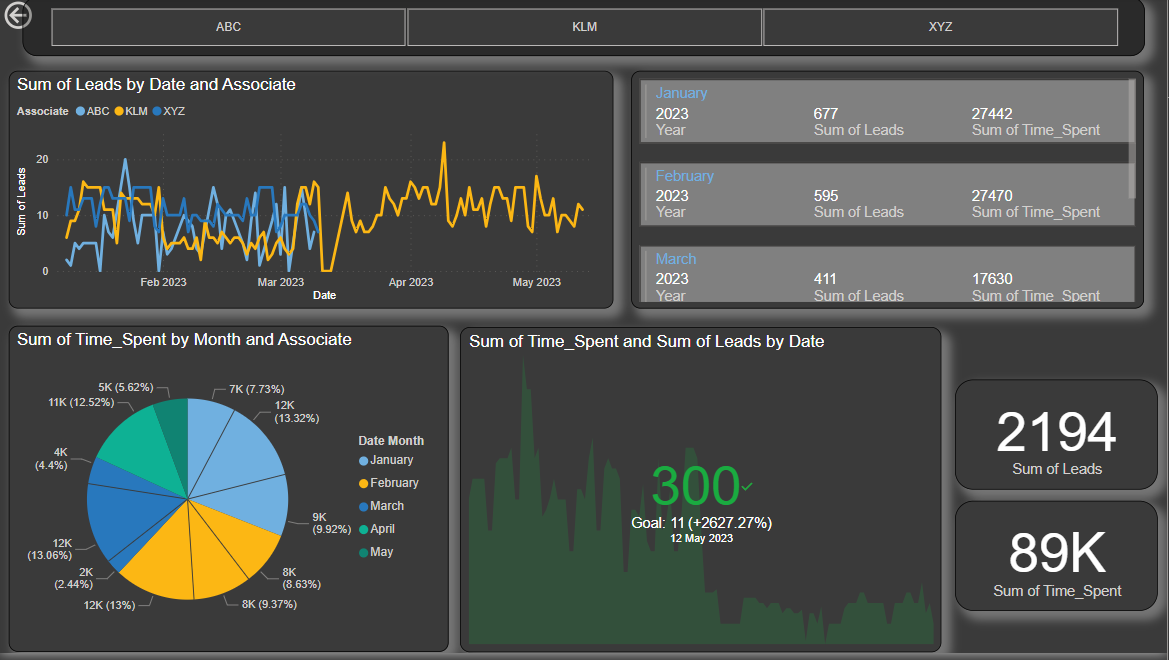

Layout of this report page (visuals, bound fields, positions):
{"tool":"powerbi","page":{"name":"Page 1","canvas":[1280,720],"ordinal":0},"visuals":[{"type":"lineChart","fields":{"Category":["Sheet1.Date"],"Series":["Sheet1.Associate"],"Y":["Sum(Sheet1.Leads)"]},"box":[9.6,80.9,663.6,260.5],"z":0},{"type":"pieChart","fields":{"Category":["Sheet1.Date.Variation.Date Hierarchy.Month"],"Y":["Sum(Sheet1.Time_Spent)"],"Series":["Sheet1.Associate"]},"box":[9.6,360.6,482.6,357.8],"z":1000},{"type":"kpi","fields":{"Indicator":["Sum(Sheet1.Time_Spent)"],"TrendLine":["Sheet1.Date"],"Goal":["Sum(Sheet1.Leads)"]},"box":[504.5,362,527.9,356.5],"z":2000},{"type":"card","fields":{"Values":["Sum(Sheet1.Leads)"]},"box":[1047.5,419.5,222.1,120.7],"z":3000},{"type":"actionButton","box":[0,0,100,40],"z":4000},{"type":"slicer","fields":{"Values":["Sheet1.Associate"]},"box":[24.7,0,1231.2,64.4],"z":5000},{"type":"card","fields":{"Values":["Sum(Sheet1.Time_Spent)"]},"box":[1047.5,552.5,222.1,120.7],"z":6000},{"type":"multiRowCard","fields":{"Values":["Sheet1.Date.Variation.Date Hierarchy.Year","Sheet1.Date.Variation.Date Hierarchy.Month","Sum(Sheet1.Leads)","Sum(Sheet1.Time_Spent)"]},"box":[692.4,80.9,562.1,260.5],"z":6001}]}

Visuals, with their boxes in screenshot pixels (x1, y1, x2, y2):
lineChart - Sheet1.Date x Sheet1.Associate: [x1=15, y1=76, x2=612, y2=311]
pieChart - Sheet1.Date.Variation.Date Hierarchy.Month x Sum(Sheet1.Time_Spent): [x1=15, y1=328, x2=449, y2=650]
kpi - Sum(Sheet1.Time_Spent) x Sheet1.Date: [x1=460, y1=329, x2=936, y2=650]
card - Sum(Sheet1.Leads): [x1=950, y1=381, x2=1150, y2=490]
actionButton: [x1=6, y1=3, x2=96, y2=39]
slicer - Sheet1.Associate: [x1=28, y1=3, x2=1137, y2=61]
card - Sum(Sheet1.Time_Spent): [x1=950, y1=501, x2=1150, y2=609]
multiRowCard - Sheet1.Date.Variation.Date Hierarchy.Year x Sheet1.Date.Variation.Date Hierarchy.Month: [x1=630, y1=76, x2=1136, y2=311]
